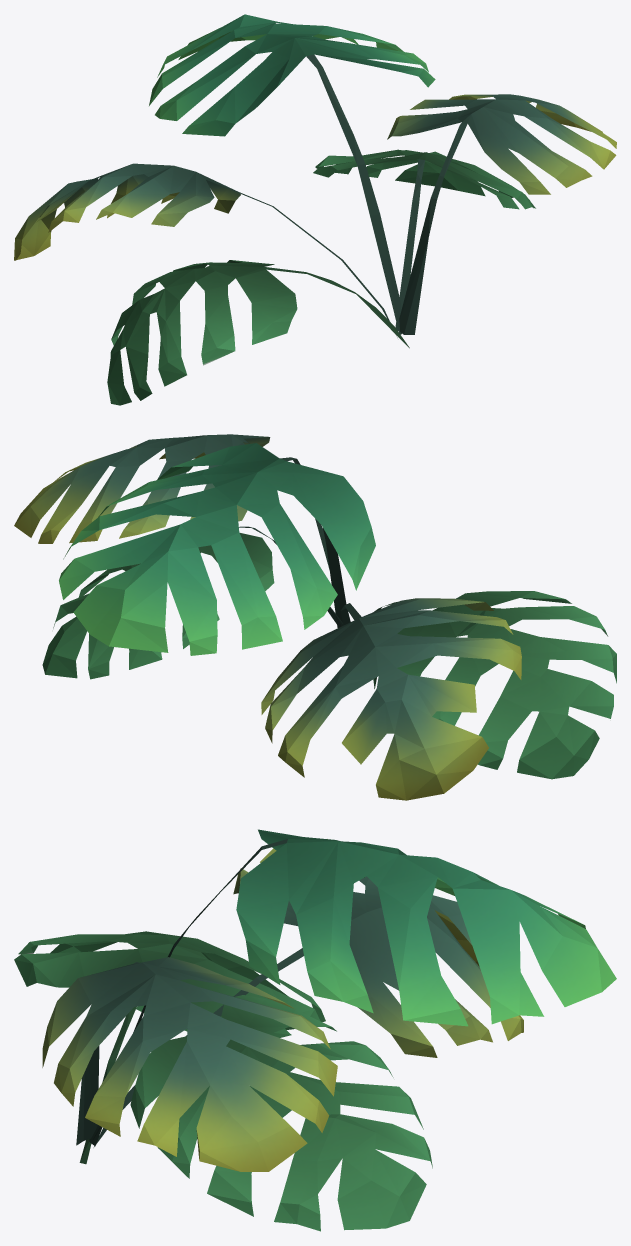
File: Jungle_RoundLeaf_C.fbx
3 views of the same model, one above another, from view 1: azimuth 30°, elevation 25°; view 2: azimuth 150°, elevation 25°; view 3: azimuth 270°, elevation 25° (orthographic). The views are drawn at different scales.
Visible parts, largest first — view 1: Jungle_RoundLeaf_C; view 2: Jungle_RoundLeaf_C; view 3: Jungle_RoundLeaf_C.
Part boxes in pixels (x1,y1,x2,y2): Jungle_RoundLeaf_C: (14, 14, 616, 405); Jungle_RoundLeaf_C: (14, 434, 616, 800); Jungle_RoundLeaf_C: (14, 829, 616, 1231).
Size of the model in its own units: 3.15 by 1.59 by 2.52.
Materials: 1 (1 with a texture image).
